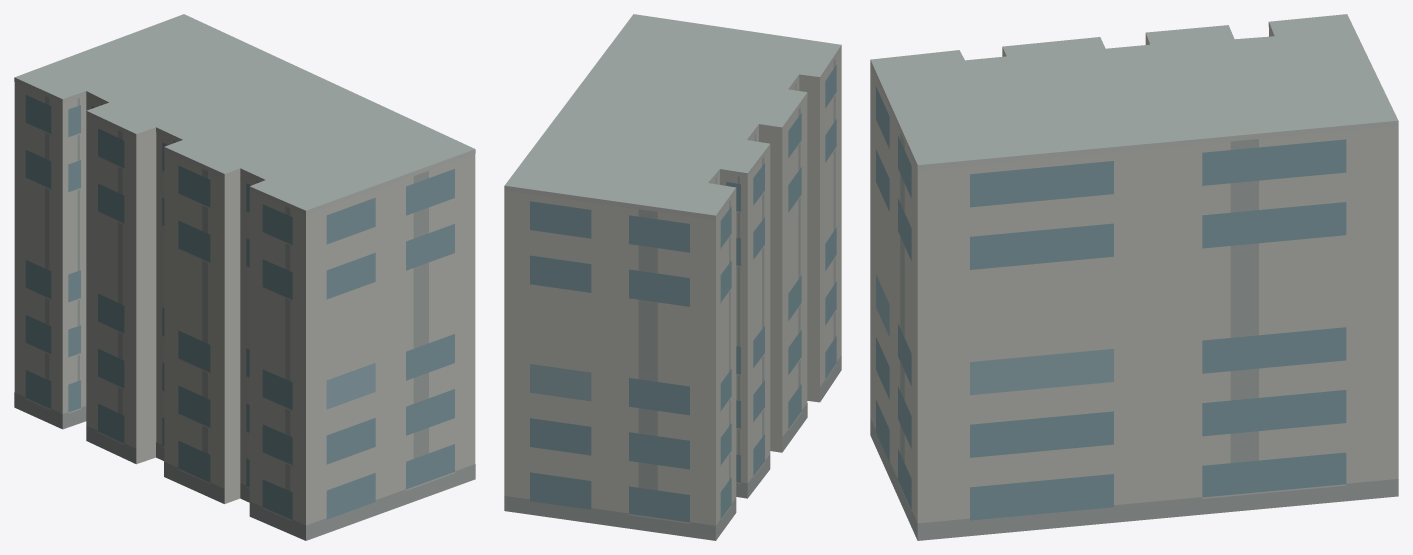
File: survey-upis-32809800.glb
3 renders of one model, left to right at view 1: azimuth 30°, elevation 25°; view 2: azimuth 150°, elevation 25°; view 3: azimuth 270°, elevation 25°, orthographic. The views are drawn at different scales.
Parts seen in each view (by area): view 1: survey-upis-32809800.tmp; view 2: survey-upis-32809800.tmp; view 3: survey-upis-32809800.tmp.
Boxes of the visible parts, bbox=[...] form: survey-upis-32809800.tmp: bbox=[14, 14, 475, 540]; survey-upis-32809800.tmp: bbox=[504, 14, 841, 540]; survey-upis-32809800.tmp: bbox=[870, 14, 1398, 540].
Size of the model in its own units: 14.85 by 17.2 by 21.92.
